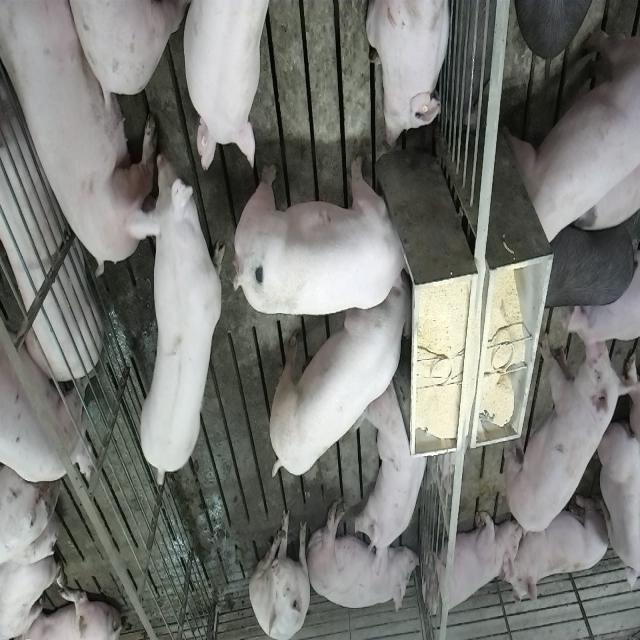Feeding: (264, 272, 412, 480), (228, 156, 408, 318)
Lateral_lying: (4, 0, 164, 274), (0, 36, 102, 386), (306, 501, 421, 616)
Sitting: (249, 506, 312, 638)
Standing: (506, 15, 638, 249), (134, 158, 224, 489), (505, 326, 627, 538), (188, 0, 290, 173), (0, 293, 93, 479), (540, 213, 636, 310)
Sternal_lying: (356, 380, 432, 566), (365, 0, 453, 150), (506, 490, 610, 604), (424, 508, 516, 622)
